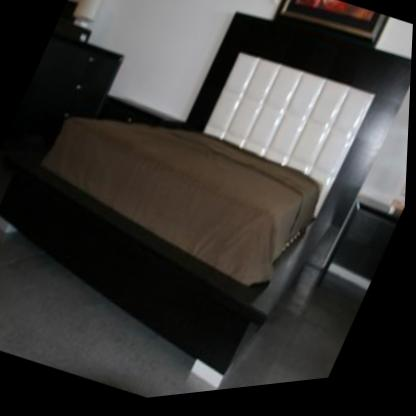Bed: (0, 17, 412, 396)
